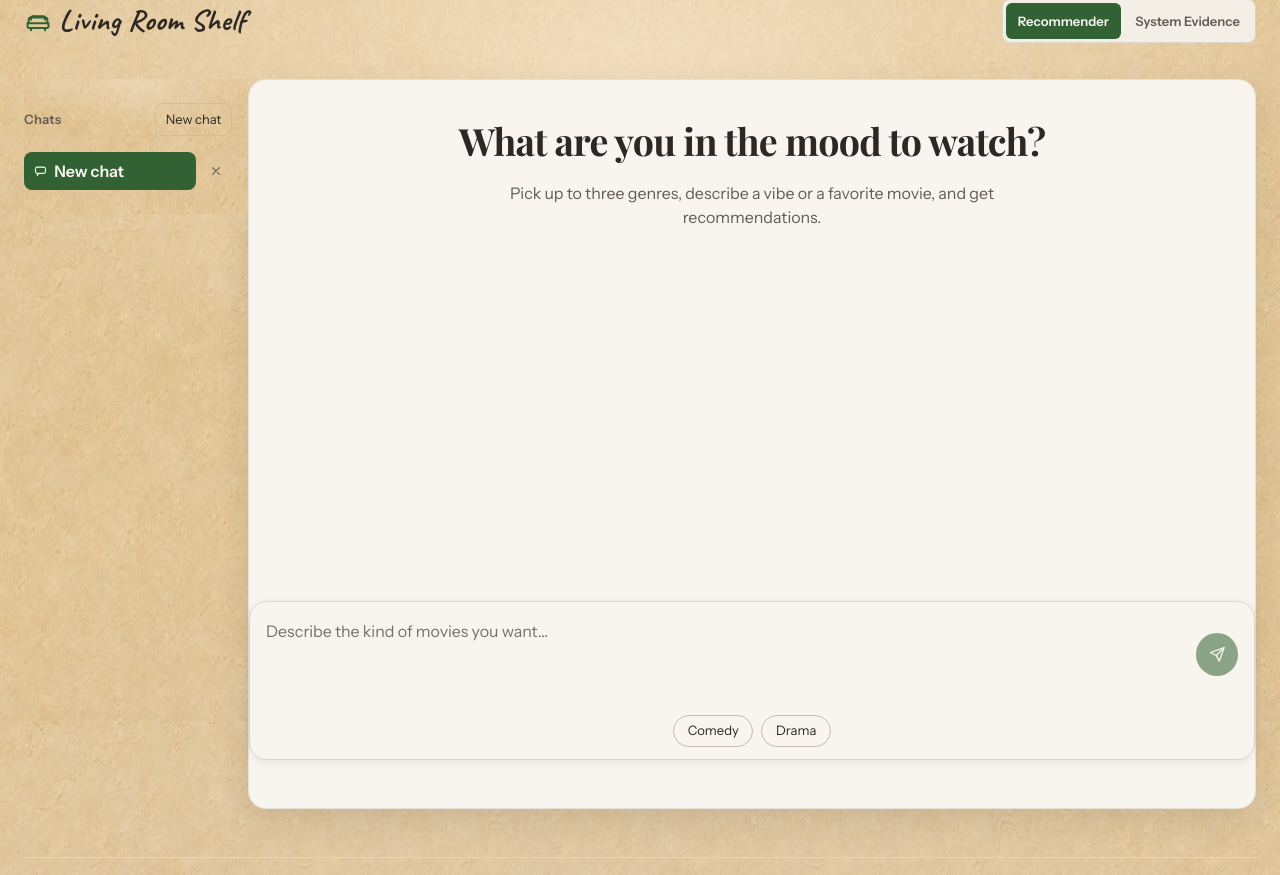
Scenario: App conversational RAG chat › submits disambiguation genre pick immediately
The width and height of the screenshot is (1280, 875).
Type "drama" into the text box with placeholder "Describe the kind of movies you want…" at point(728, 654), box [266, 614, 1190, 695]
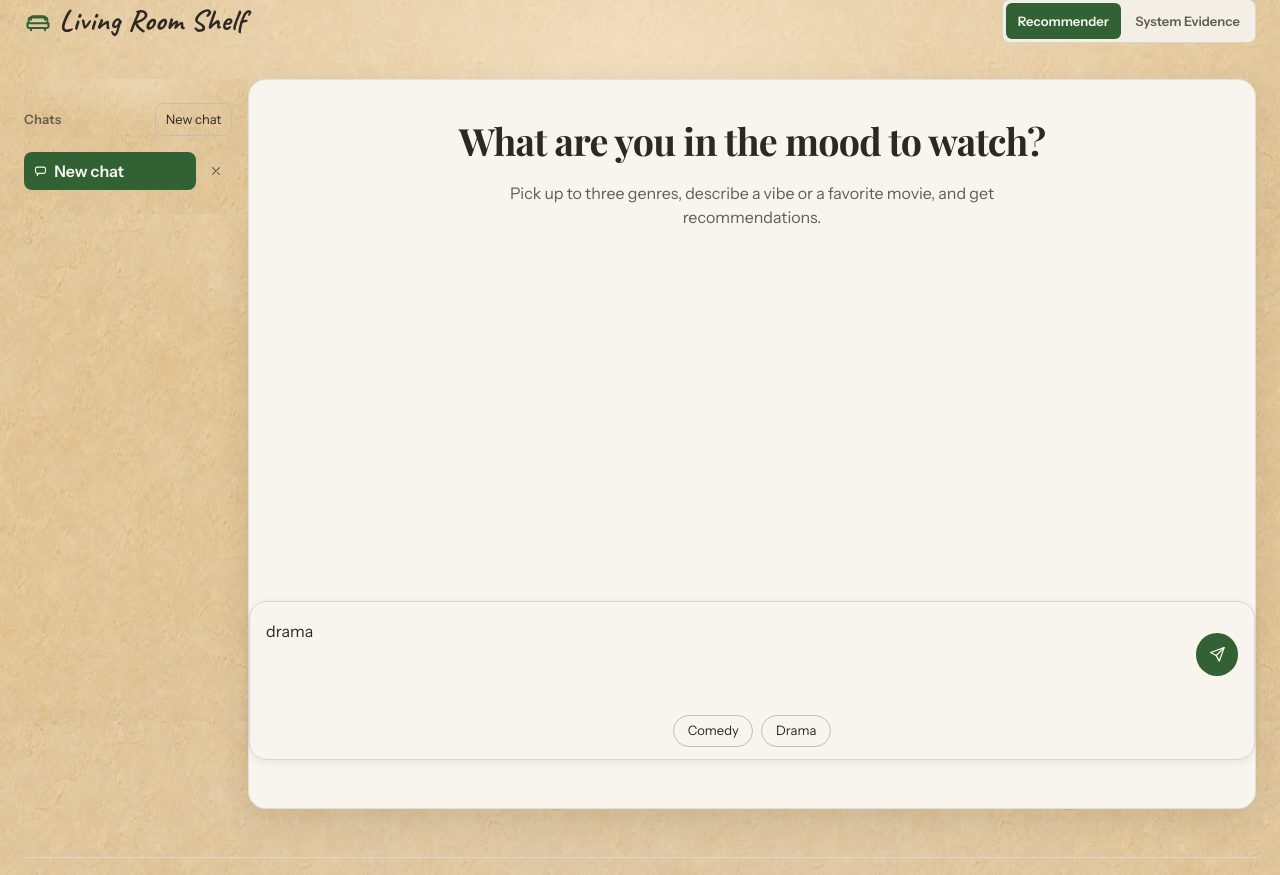
Click the button named "Send" at point(1217, 654), box [1196, 633, 1238, 676]
(page scrolled)
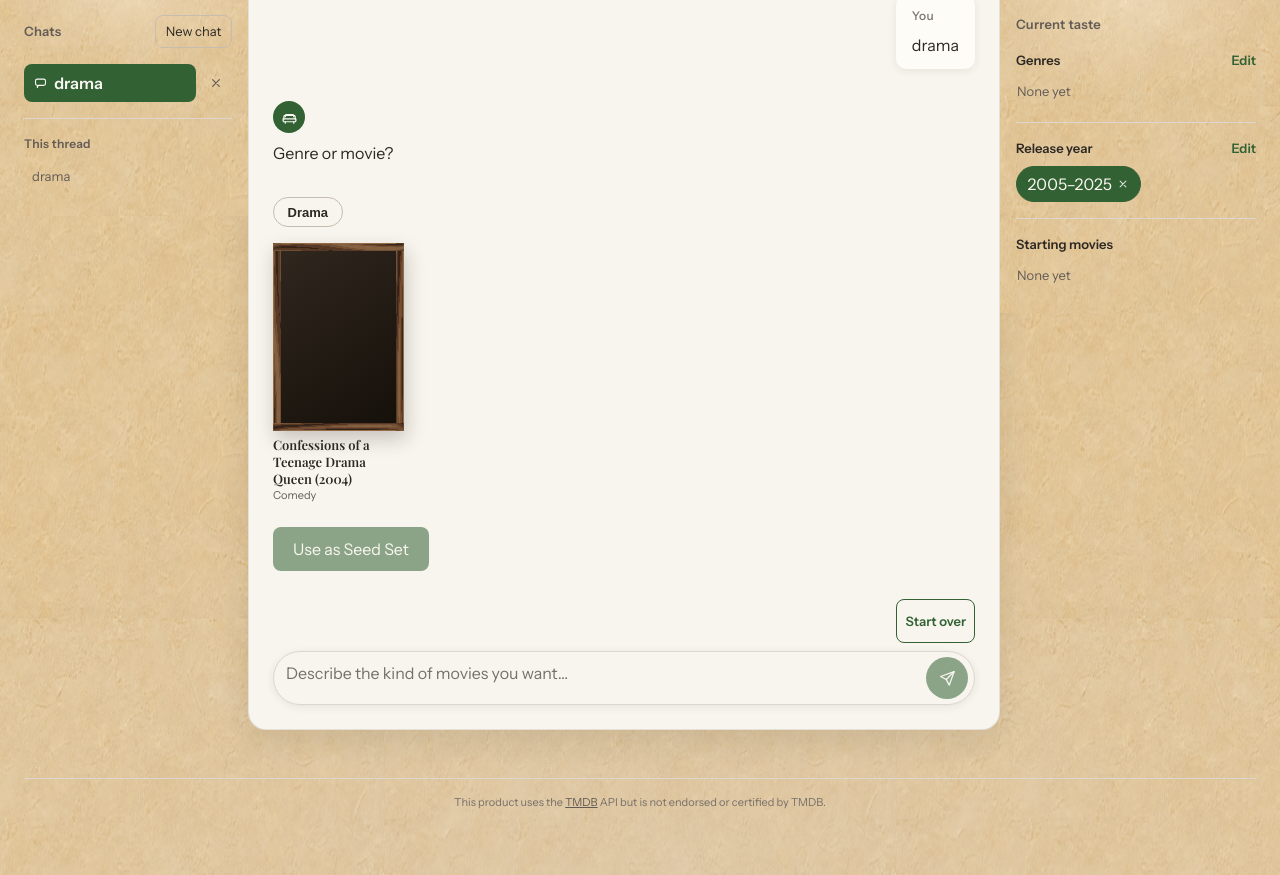
Click the button "Drama" at point(308, 212), box [273, 197, 343, 227]
(page scrolled)
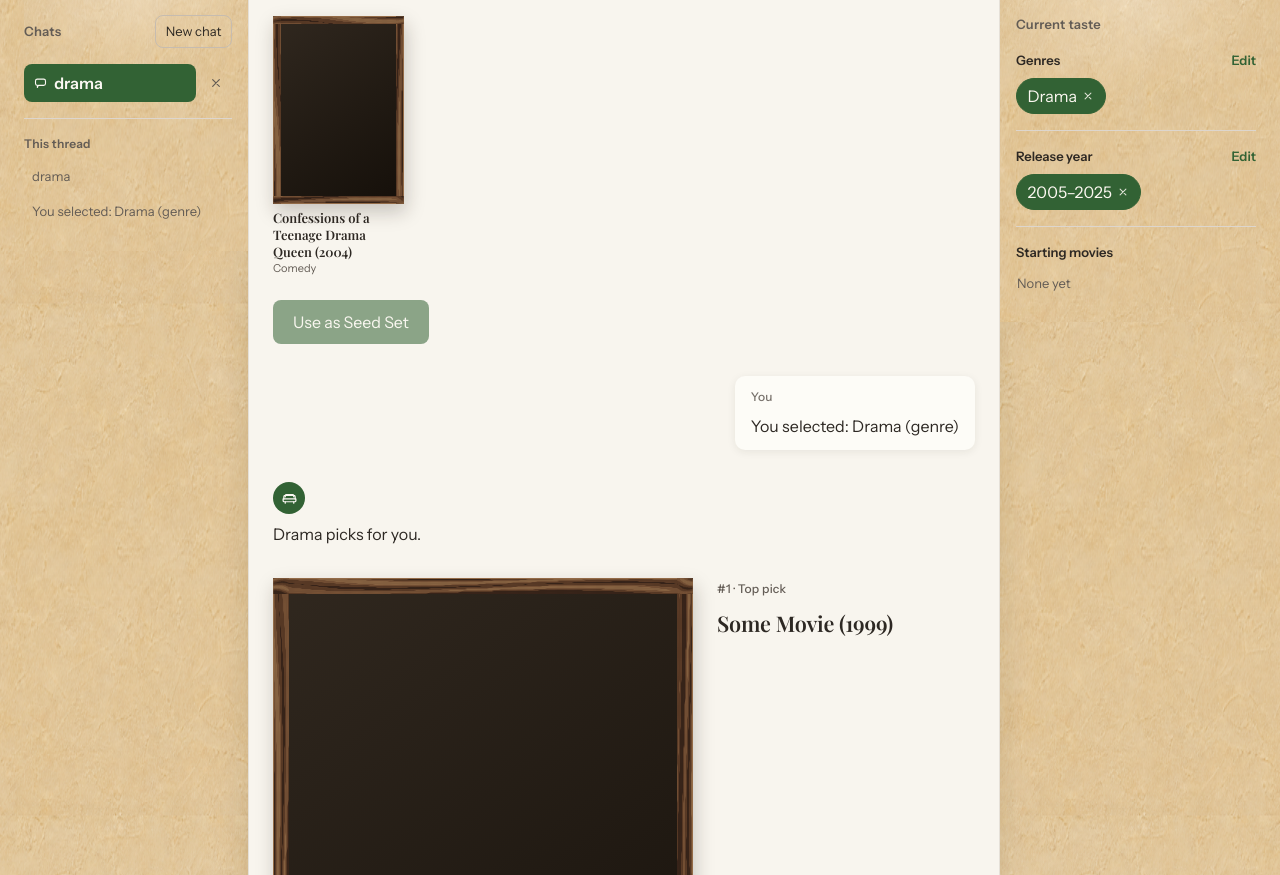
Expected: the text "Drama picks for you." is shown, [273, 524, 421, 544]
Expected: the text "You selected: Drama (genre)" is shown, [751, 414, 959, 438]
